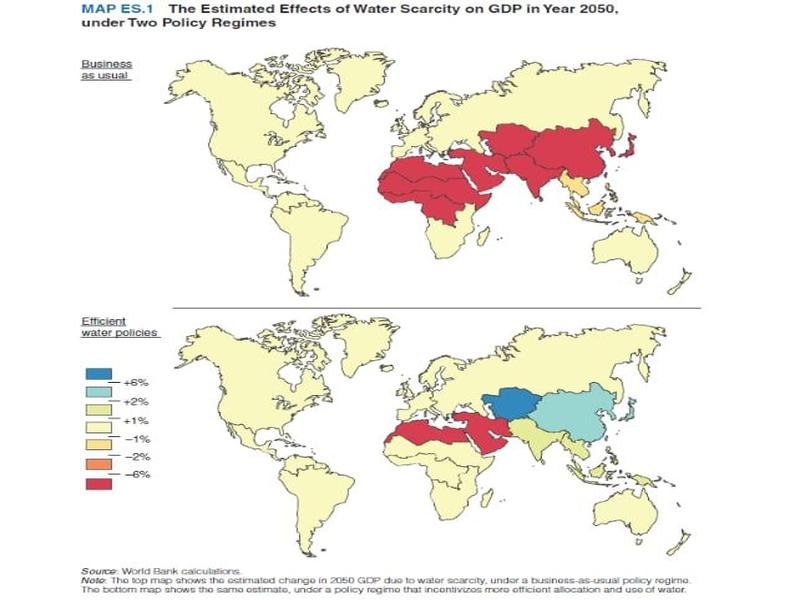legend: (78, 315, 162, 495)
